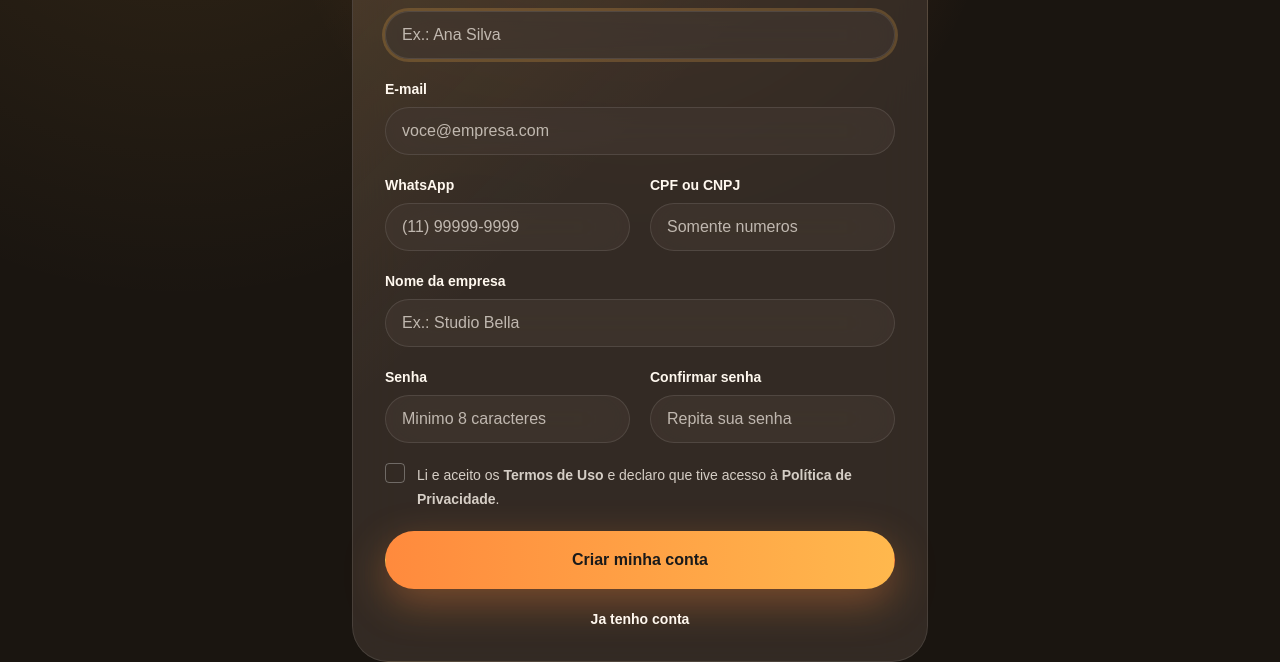
SignupForm › bloqueia submit com validacao local
The width and height of the screenshot is (1280, 662).
(page scrolled)
Click the button "Criar minha conta" at (640, 560), box [385,531,895,589]
(page scrolled)
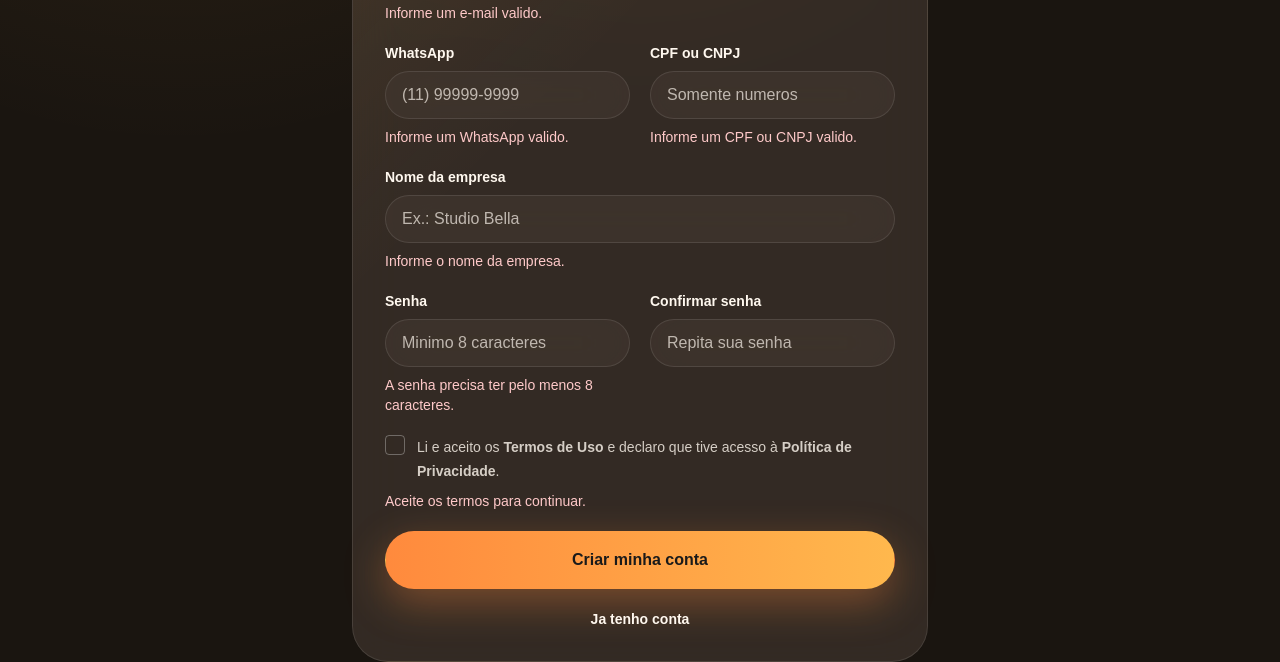
Expected: the text "Informe um e-mail valido." is shown, [385,5,542,21]
Expected: the text "Informe um WhatsApp valido." is shown, [385,129,569,145]
Expected: the text "Informe um CPF ou CNPJ valido." is shown, [650,129,857,145]
